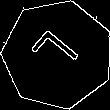L_SE: (27, 26, 88, 83)
